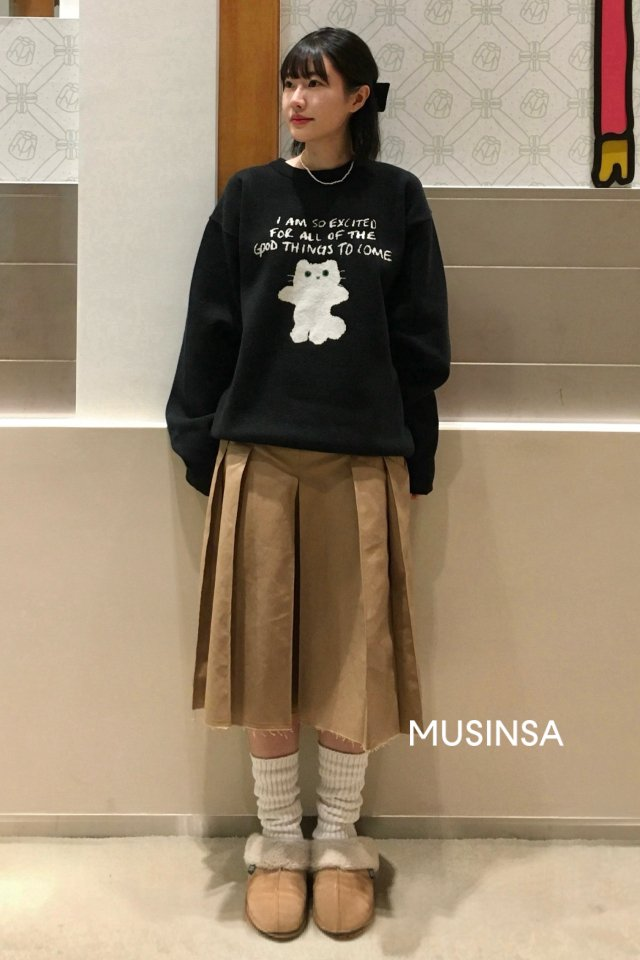Accessories: (283, 151, 356, 185)
Boots: (231, 831, 393, 942)
Skirt: (189, 437, 433, 751)
Sweatshirt: (184, 159, 456, 457)
